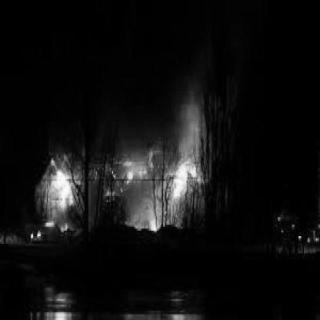Fire: (89, 107, 212, 231), (36, 150, 87, 231)
